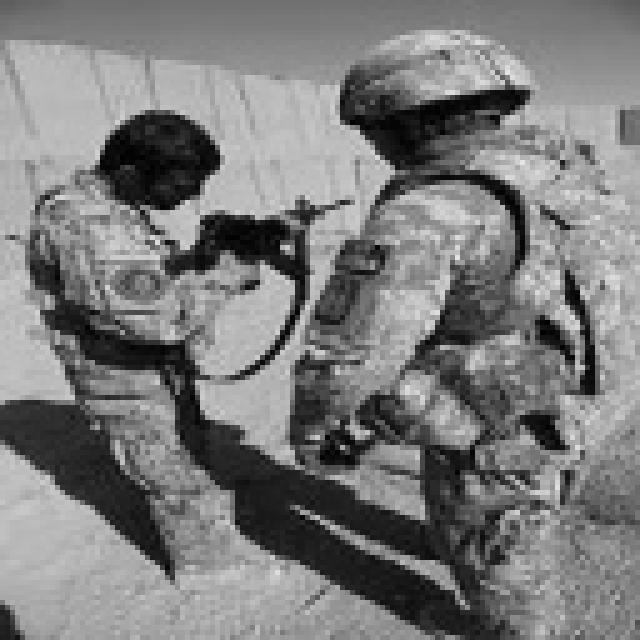Rifle: (89, 160, 382, 409)
